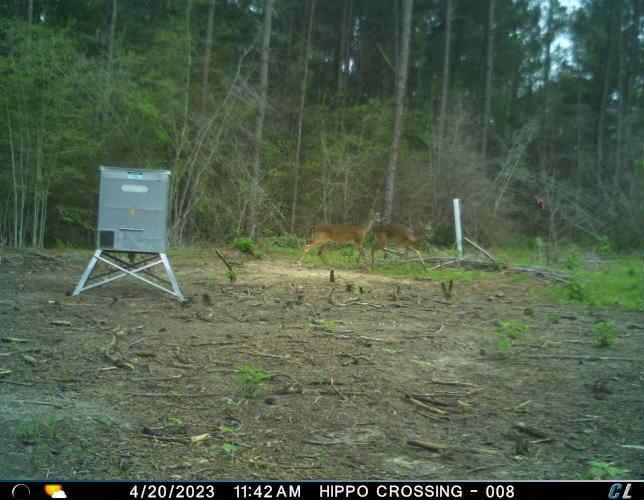Deer: (291, 205, 384, 272), (371, 216, 437, 271)
